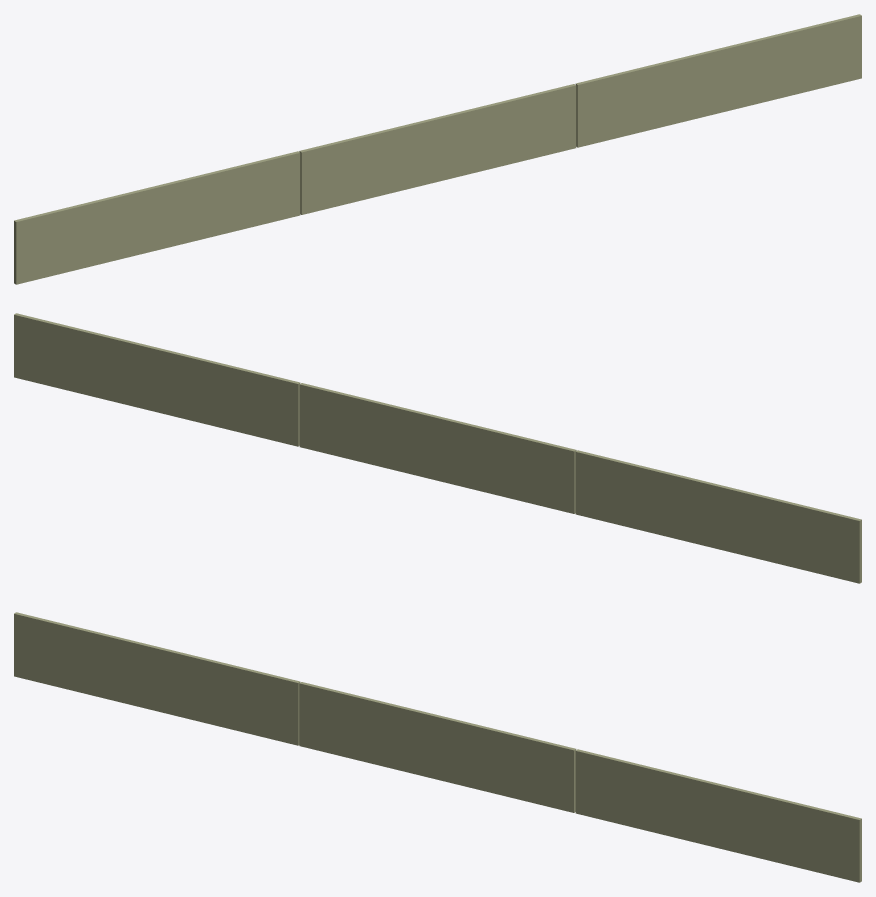
The model's file is SMOD_BannerBarriers.fbx.
3 views of the same model, one above another, from view 1: azimuth 30°, elevation 25°; view 2: azimuth 150°, elevation 25°; view 3: azimuth 330°, elevation 25° (orthographic).
Parts seen in each view (by area): view 1: SMOD_BannerBarriers; view 2: SMOD_BannerBarriers; view 3: SMOD_BannerBarriers.
Part boxes in pixels (x1,y1,x2,y2): SMOD_BannerBarriers: (14,14,861,284); SMOD_BannerBarriers: (14,313,861,583); SMOD_BannerBarriers: (14,612,861,882).
Size of the model in its own units: 3221 by 228 by 14.38.
